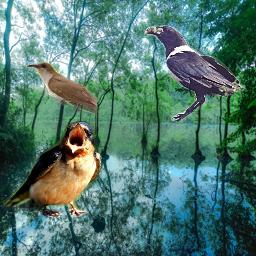Crow: (144, 25, 247, 122)
Cuckoo: (25, 62, 97, 115)
Swallow: (3, 121, 103, 217)
